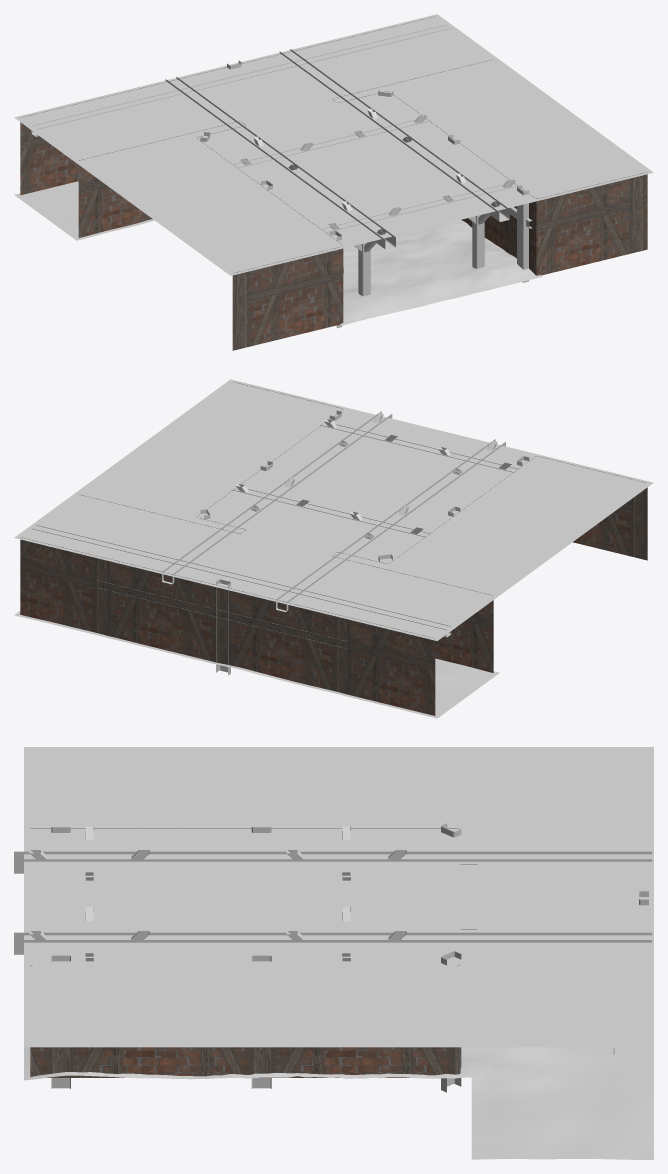
Rendered from Walls.fbx.
3 views of the same model, one above another, from view 1: azimuth 30°, elevation 25°; view 2: azimuth 150°, elevation 25°; view 3: azimuth 270°, elevation 25° (orthographic). The views are drawn at different scales.
Parts seen in each view (by area): view 1: Planks, Walls, Soil, Frame; view 2: Planks, Walls, Frame, Soil; view 3: Planks, Soil, Walls, Frame.
Boxes of the visible parts, x1,y1,x2,y2 form: Planks: (14,14,653,275); Walls: (20,16,647,350); Soil: (14,181,541,325); Frame: (31,24,532,328); Planks: (14,379,653,640); Walls: (20,382,647,715); Frame: (32,410,529,675); Soil: (14,611,499,718); Planks: (24,747,653,1047); Soil: (24,1047,653,1159); Walls: (30,828,477,1077); Frame: (14,823,652,1092).
Bounding box in the file's own units: 20912 × 4333 × 18829.
Materials: 1 (1 with a texture image).
